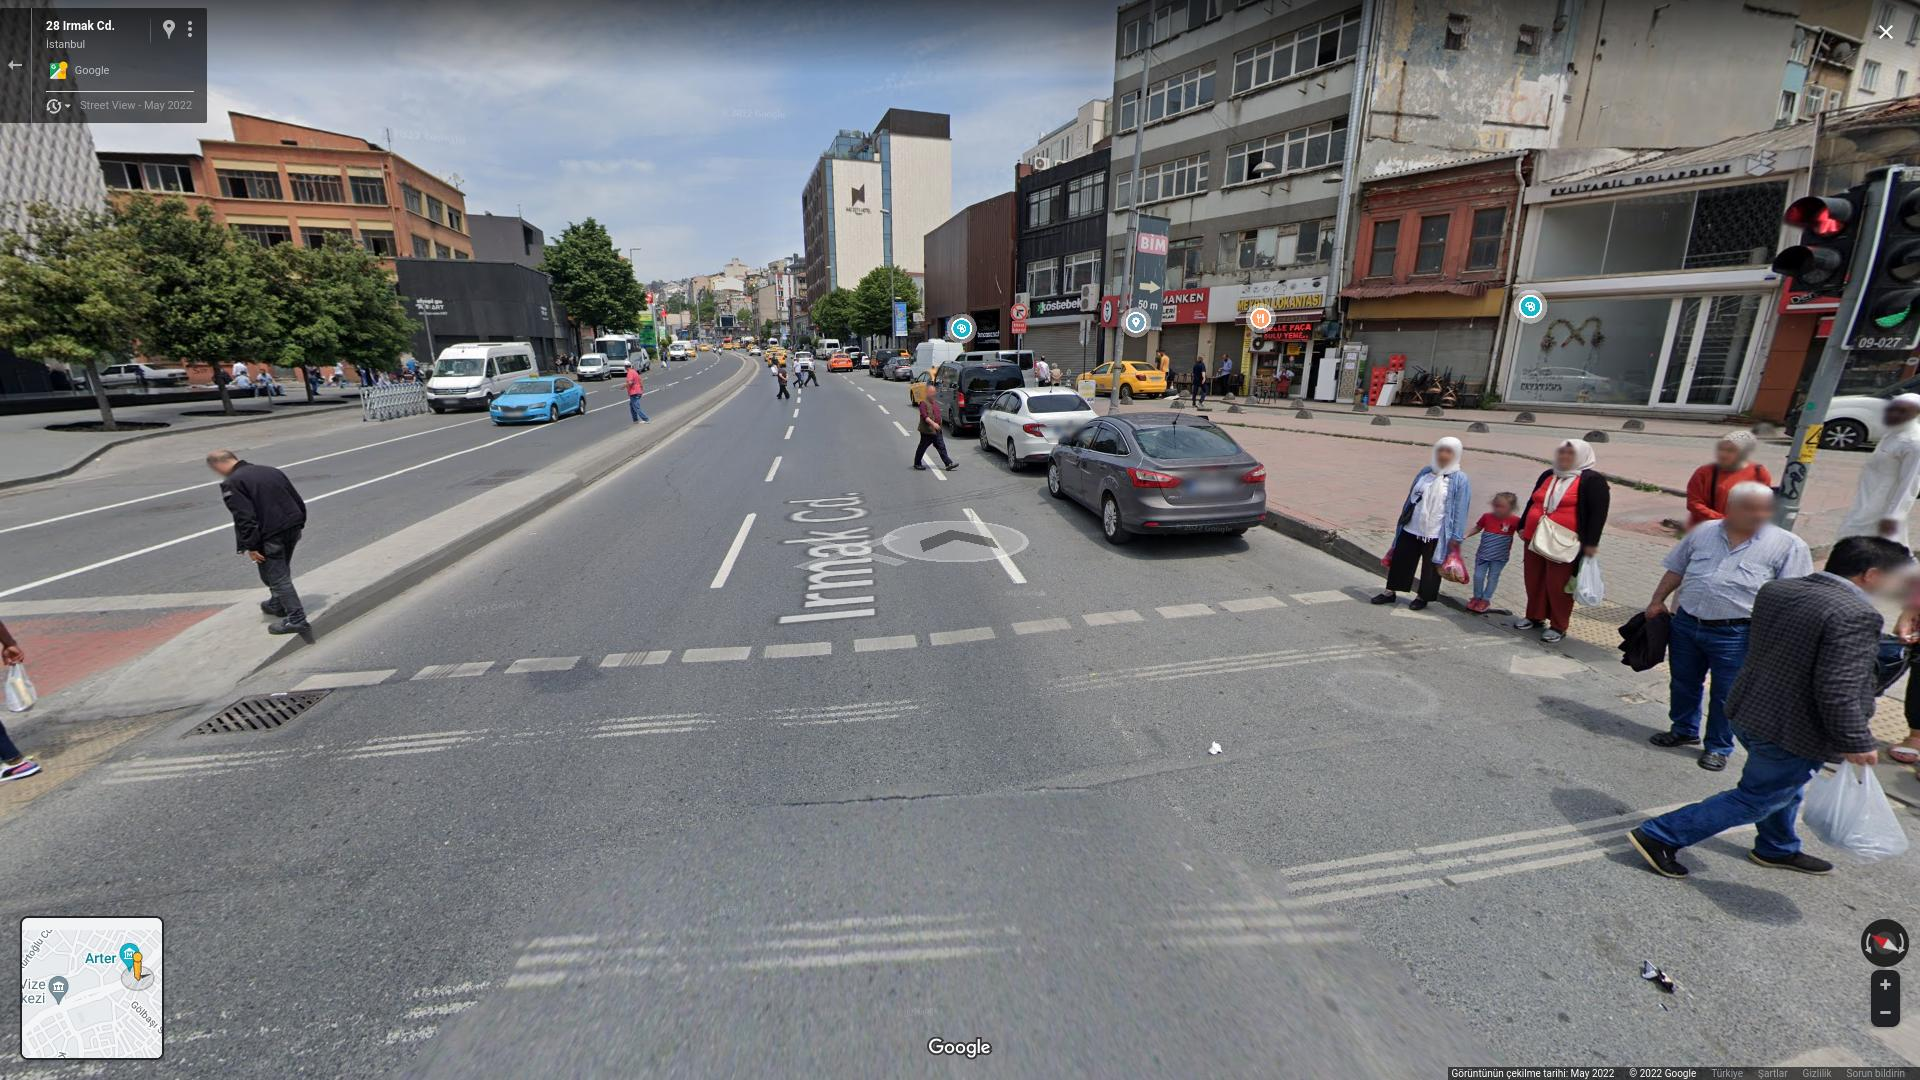rightturnsareforbidden: (1011, 303, 1027, 320)
